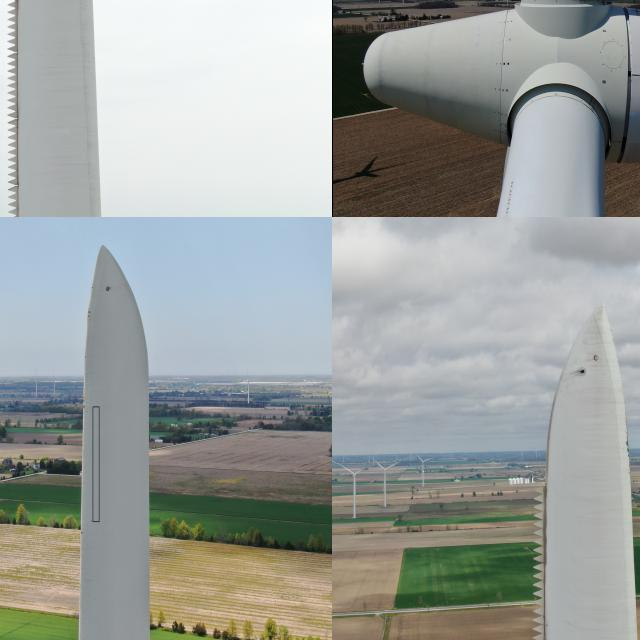damage: (565, 0, 607, 6), (84, 306, 90, 326), (576, 365, 586, 376), (88, 278, 94, 292)
